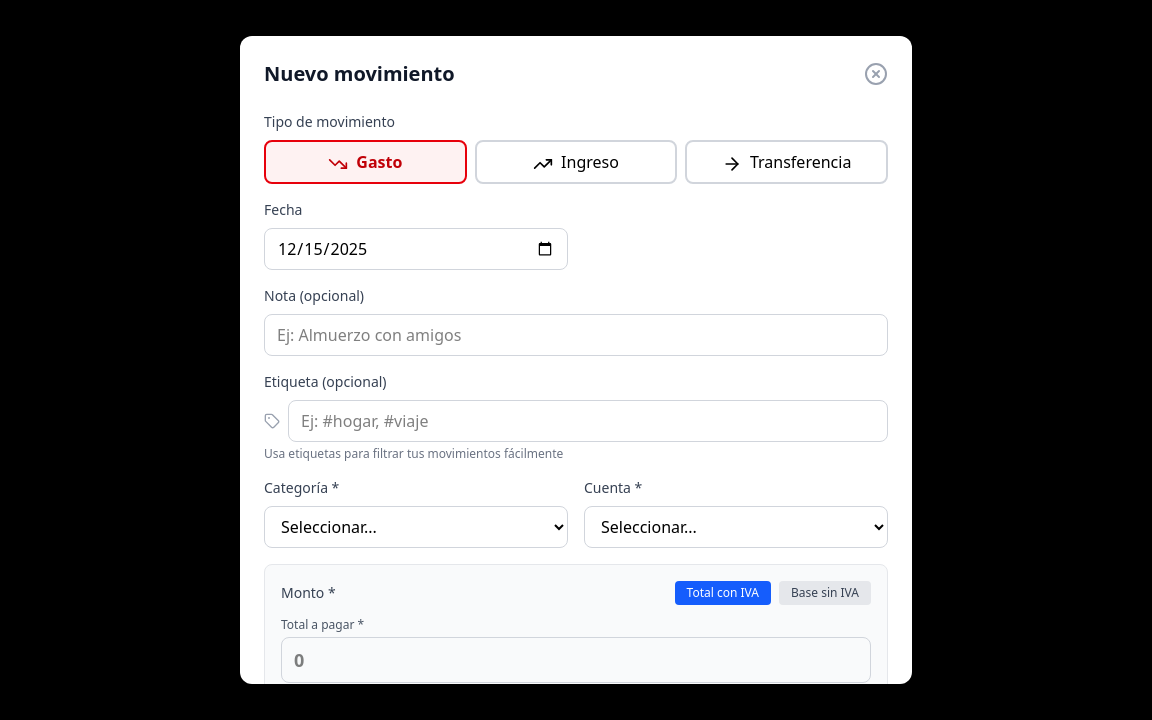
NewMovementModal › debe mostrar selector de cuenta destino para transferencias
Step 1. Click the button "Transferencia" → [787, 162], box [685, 140, 888, 184]
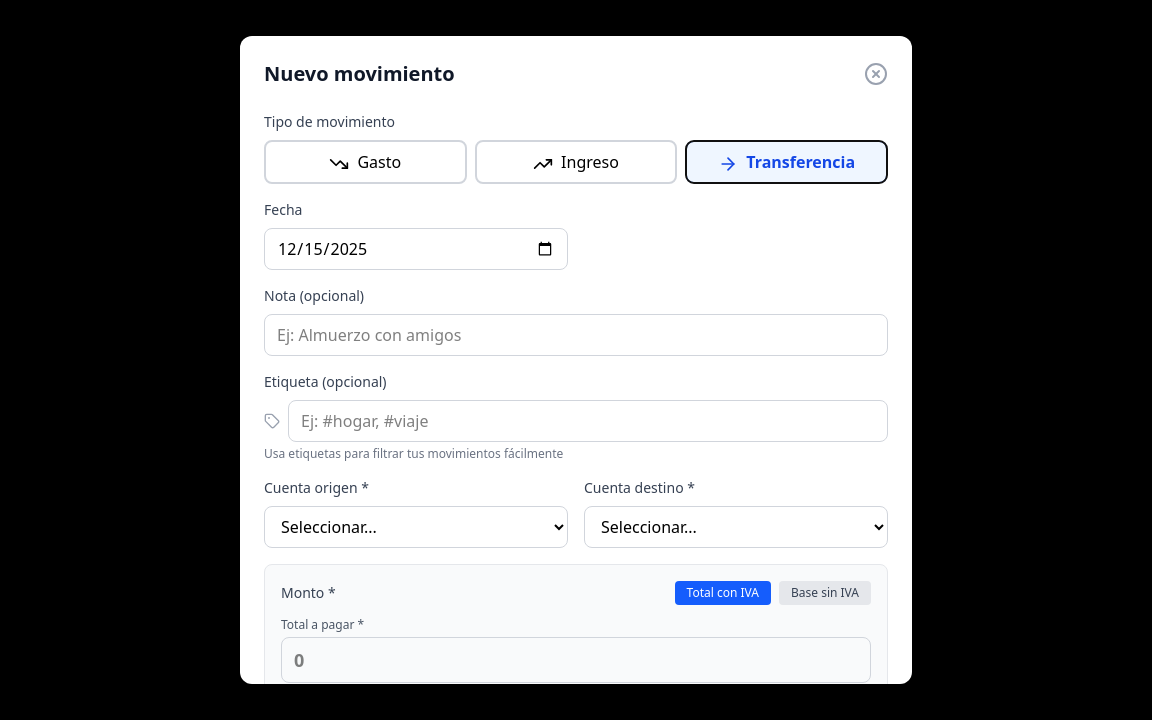
Check: the text "Cuenta destino *" is shown, box [584, 478, 695, 497]
